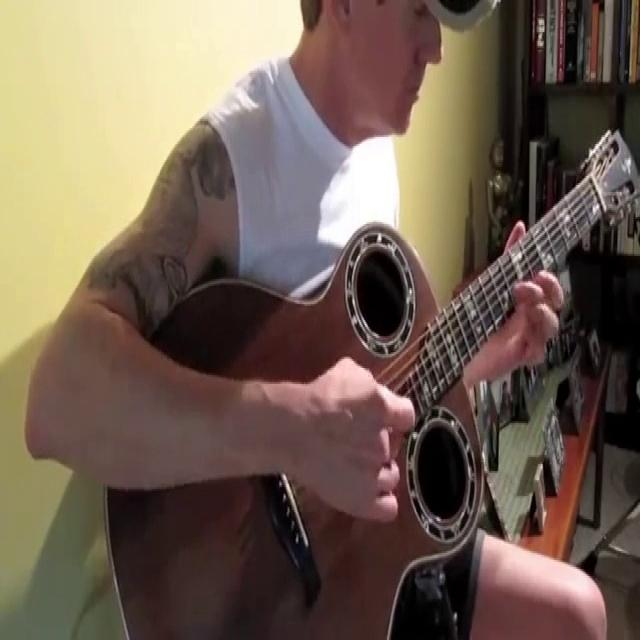Guitar: (102, 123, 634, 640)
